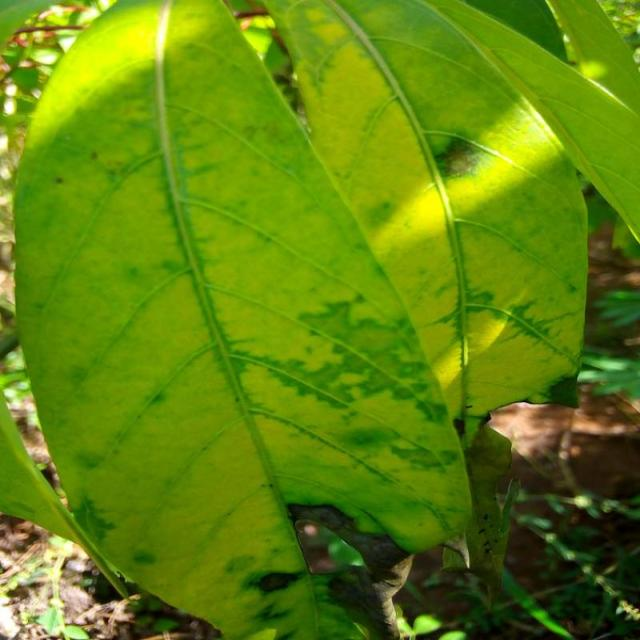cassava leaf: (11, 0, 476, 639), (257, 0, 591, 425)
